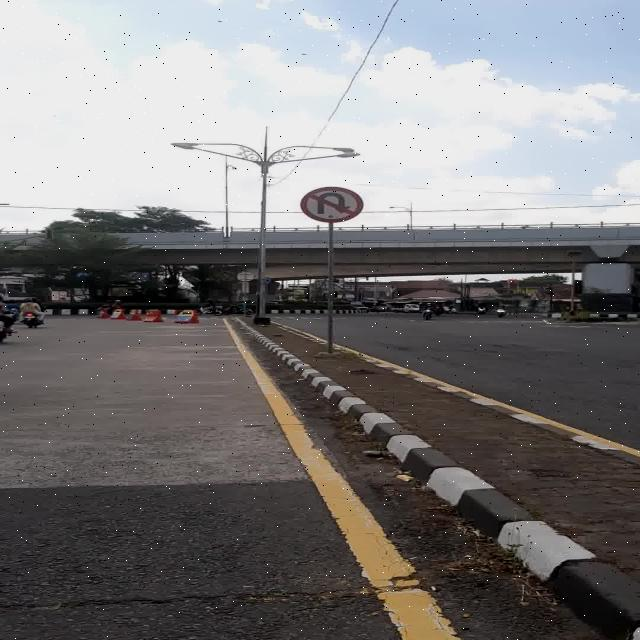Dilarang Putar Balik: (301, 186, 364, 222)
